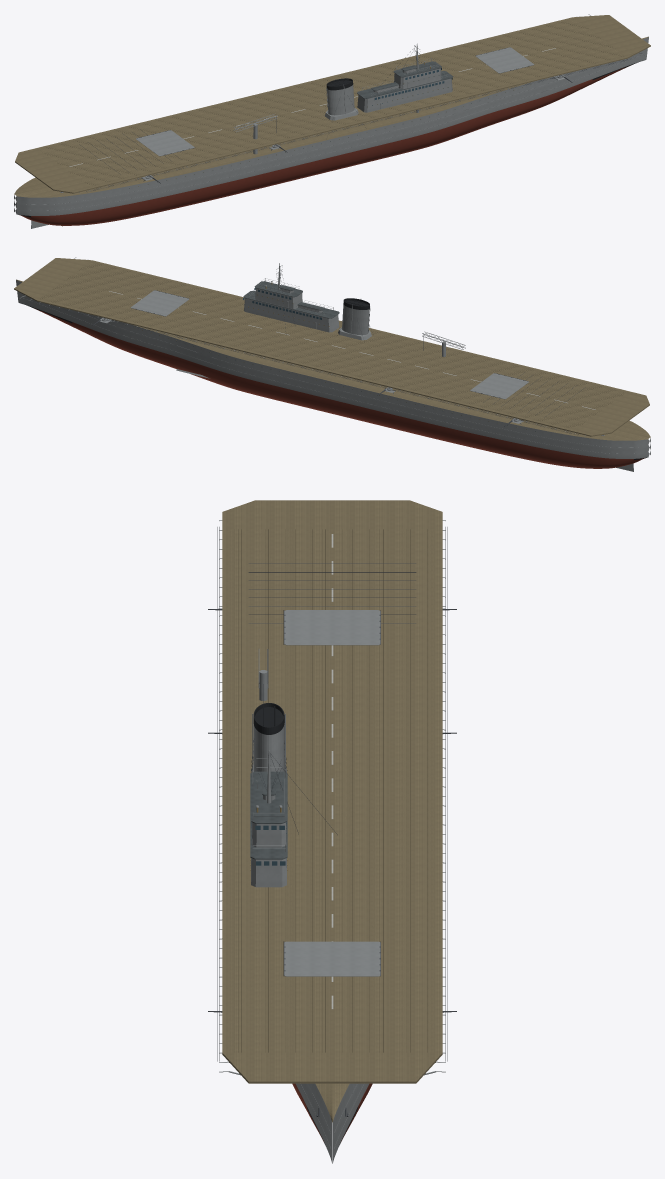
Rendered from hermes.glb.
3 views of the same model, one above another, from view 1: azimuth 30°, elevation 25°; view 2: azimuth 150°, elevation 25°; view 3: azimuth 270°, elevation 25° (orthographic). The views are drawn at different scales.
Parts seen in each view (by area): view 1: Hermes; view 2: Hermes; view 3: Hermes.
Boxes of the visible parts, box(x1,y1,x2,y2) form: Hermes: box(14, 14, 650, 228); Hermes: box(14, 257, 650, 471); Hermes: box(208, 500, 456, 1163).
Bounding box in the file's own units: 182 × 29.8 × 31.
9 materials, 8 textured.
